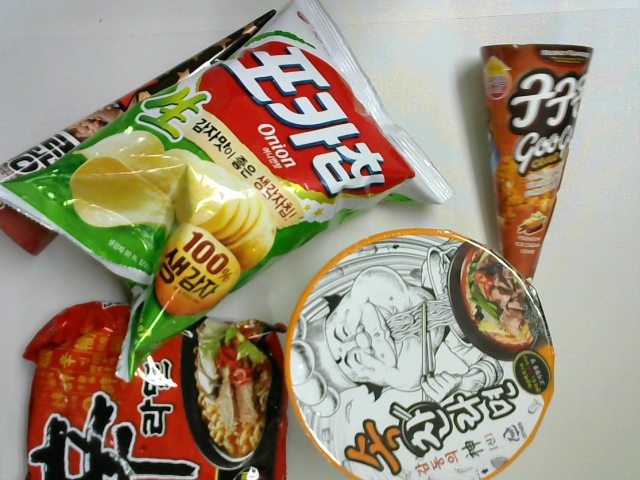GooGoo_Cone_CVS: (473, 35, 596, 341)
Hejangchan: (286, 217, 554, 480)
Pocachip_Onion: (1, 1, 465, 385)
Sinramen: (18, 292, 298, 480)
World_Cone_Choco: (1, 10, 284, 261)
